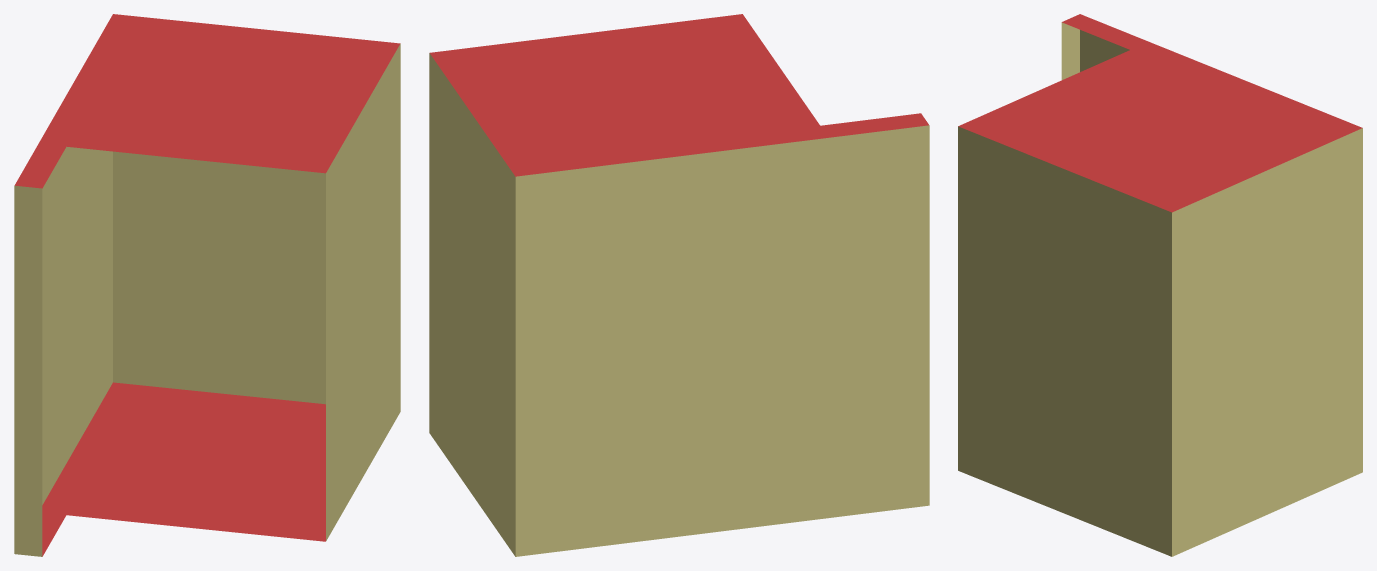
3 views of the same model, side by side, from view 1: azimuth 30°, elevation 25°; view 2: azimuth 150°, elevation 25°; view 3: azimuth 270°, elevation 25° (orthographic). The views are drawn at different scales.
Size of the model in its own units: 8.7 by 7.5 by 7.04.
